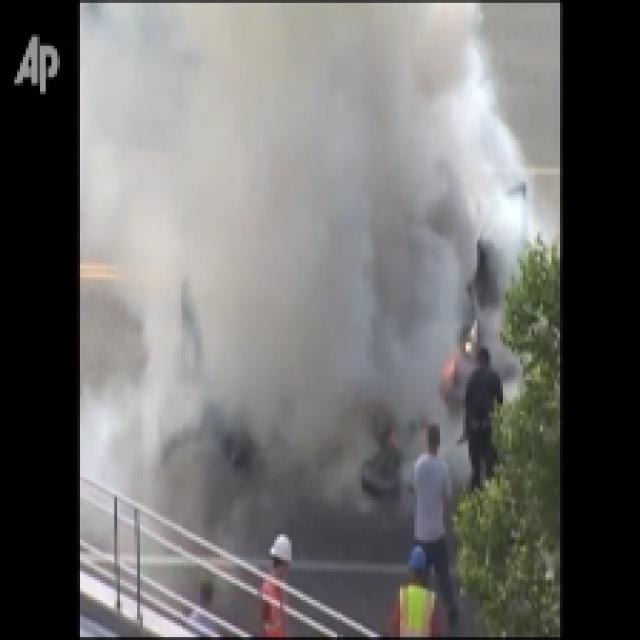smoke: (172, 14, 451, 447)
